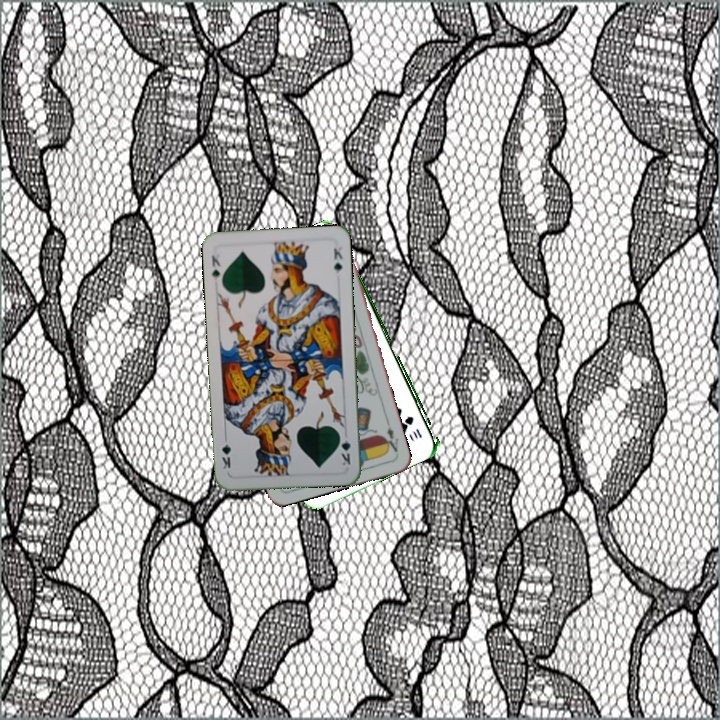EA: (380, 417, 401, 455)
G10: (402, 412, 425, 441)
GK: (336, 429, 353, 468), (207, 251, 223, 284)
